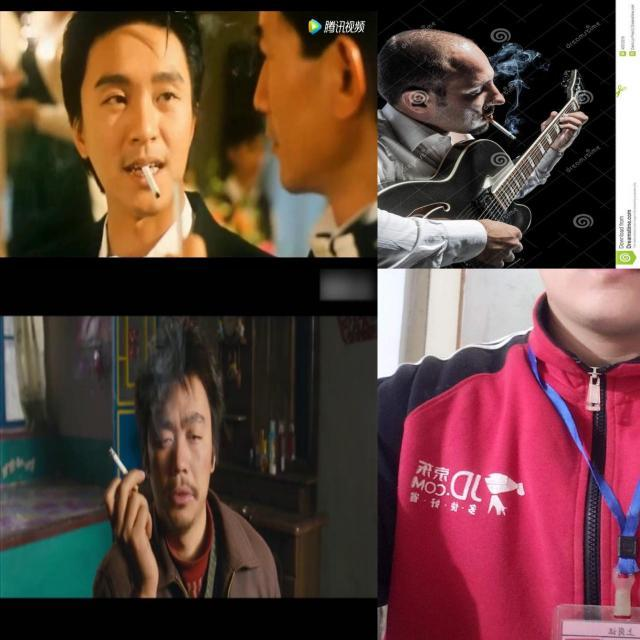cigarette: (106, 443, 144, 496), (480, 111, 518, 142), (141, 165, 161, 201)
